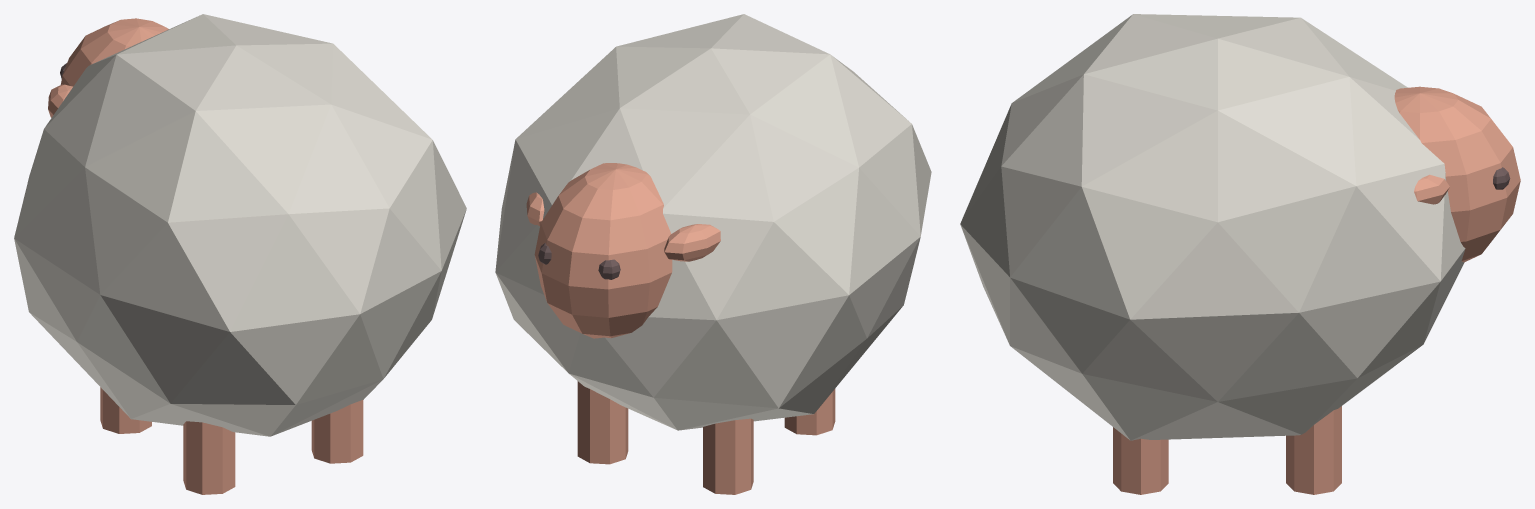
File: sheep.glb
3 renders of one model, left to right at view 1: azimuth 30°, elevation 25°; view 2: azimuth 150°, elevation 25°; view 3: azimuth 270°, elevation 25°, orthographic. The views are drawn at different scales.
Visible parts, largest first — view 1: sheep; view 2: sheep; view 3: sheep.
Part boxes in pixels (box(x1,y1,x2,y2)): sheep: box(14, 14, 466, 494); sheep: box(495, 14, 931, 494); sheep: box(960, 14, 1520, 494).
Bounding box in the file's own units: 0.9251 × 0.9454 × 1.17.
